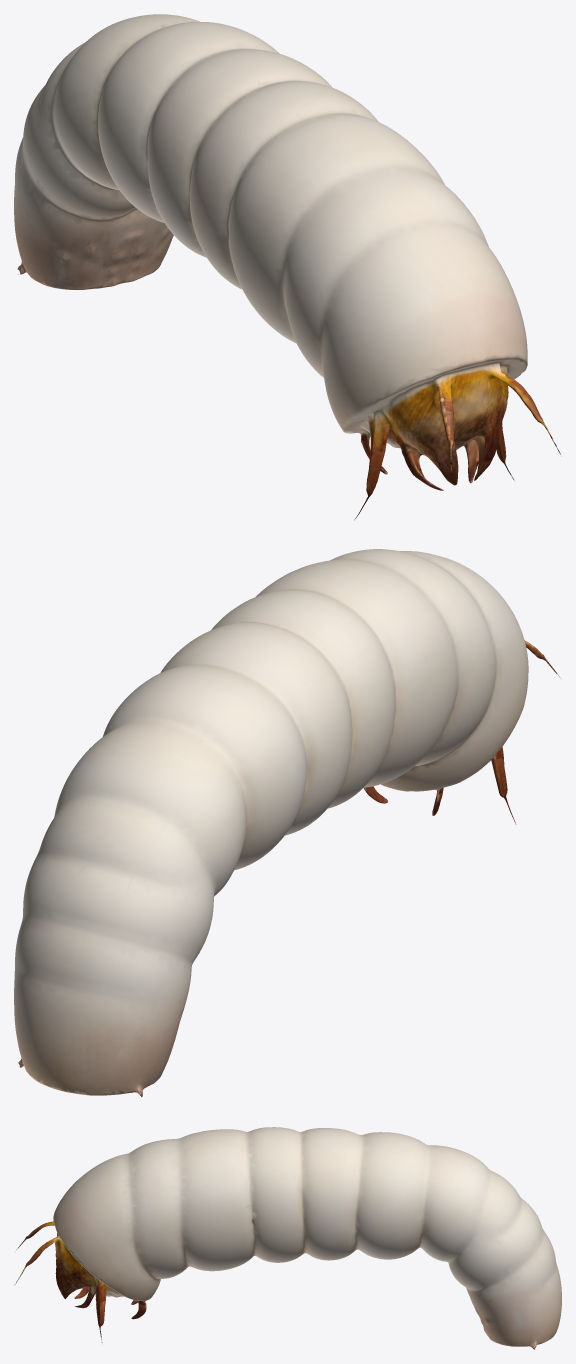
Rendered from tapeworm.glb.
3 renders of one model, top to bottom at view 1: azimuth 30°, elevation 25°; view 2: azimuth 150°, elevation 25°; view 3: azimuth 270°, elevation 25°, orthographic. The views are drawn at different scales.
Parts seen in each view (by area): view 1: model; view 2: model; view 3: model.
Part boxes in pixels (bbox=[...]): model: bbox=[14, 14, 561, 520]; model: bbox=[14, 549, 560, 1097]; model: bbox=[14, 1127, 561, 1349].
Size of the model in its own units: 0.465 by 0.7583 by 1.9.
1 material, 1 textured.
